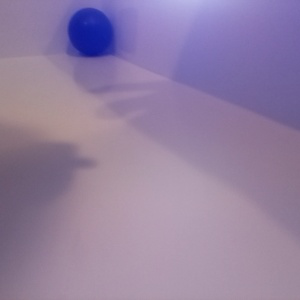dead_ball: (68, 7, 113, 56)
